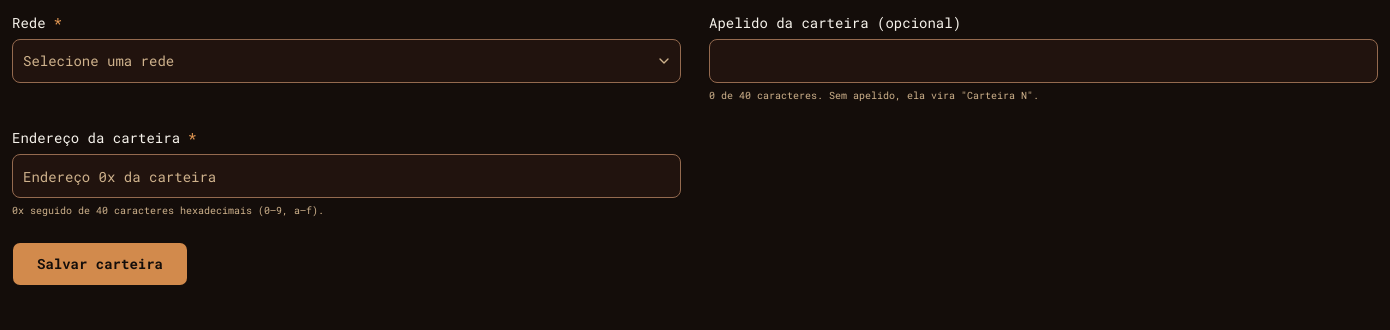
Test: WalletForm › endereço inválido e rede vazia mostram erro, focam a rede (primeira na ordem visual) e não enviam
Type "0x123" into the field labelled "Endereço da carteira *" at (346, 176), box top-left (12, 154), bottom-right (681, 198)
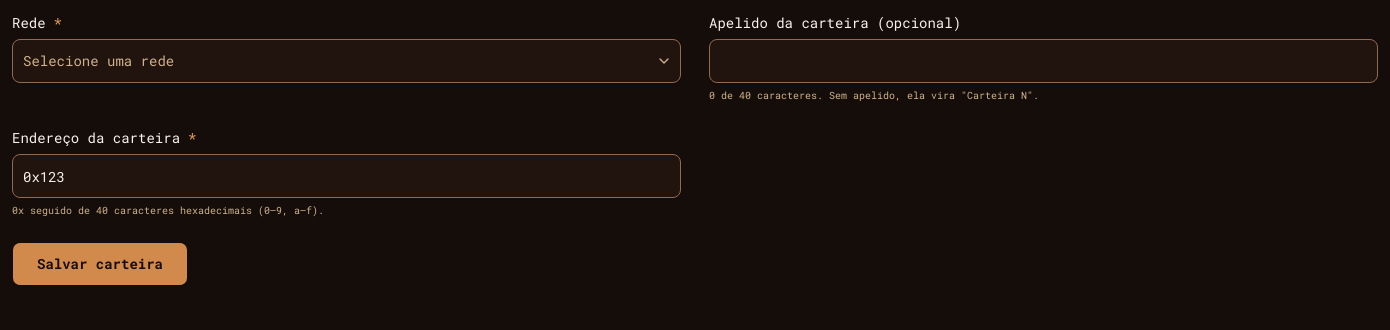
Click the button "Salvar carteira" at (100, 264), box top-left (12, 242), bottom-right (188, 286)
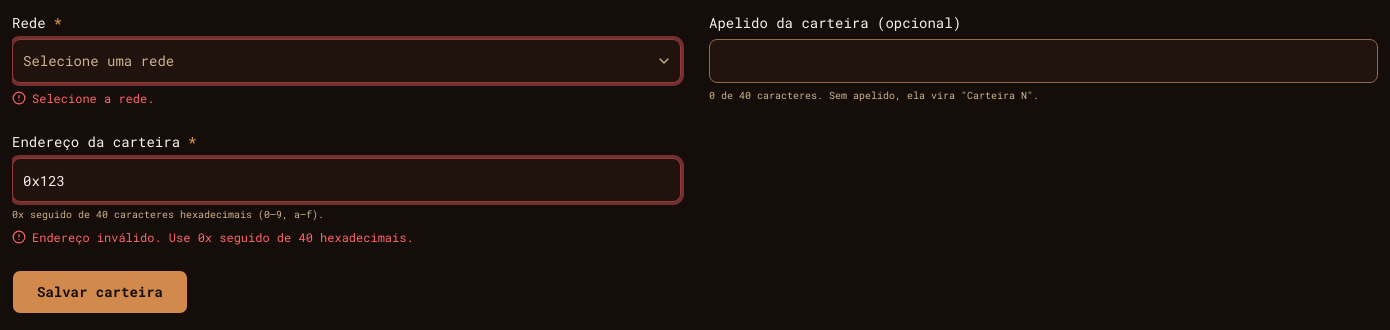
Expected: the text "Endereço inválido. Use 0x seguido de 40 hexadecimais." is shown, top-left (12, 229), bottom-right (414, 245)
Expected: the text "Selecione a rede." is shown, top-left (12, 90), bottom-right (154, 106)
